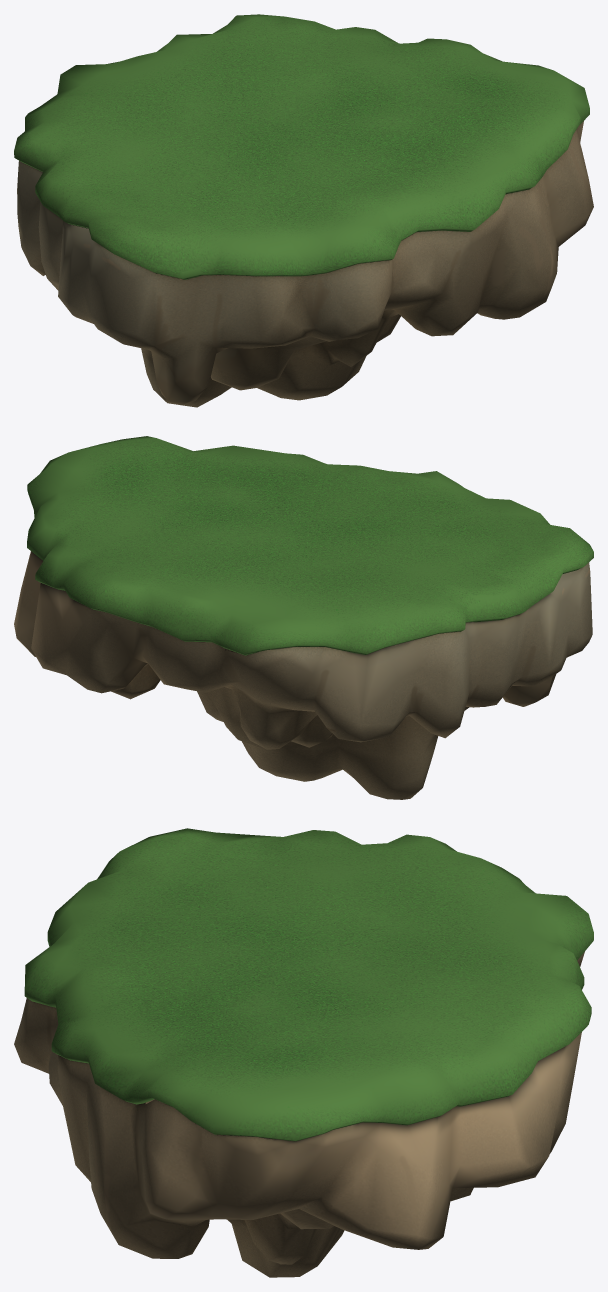
File: RockyIsland.fbx
3 views of the same model, one above another, from view 1: azimuth 30°, elevation 25°; view 2: azimuth 150°, elevation 25°; view 3: azimuth 270°, elevation 25° (orthographic). The views are drawn at different scales.
Visible parts, largest first — view 1: Grass, Rock Base; view 2: Grass, Rock Base; view 3: Grass, Rock Base.
Part boxes in pixels (box(x1,y1,x2,y2)): Grass: box(14, 14, 589, 279); Rock Base: box(17, 121, 593, 407); Grass: box(27, 436, 593, 655); Rock Base: box(14, 551, 592, 799); Grass: box(24, 828, 593, 1141); Rock Base: box(14, 951, 584, 1277).
Size of the model in its own units: 942 by 474 by 780.
